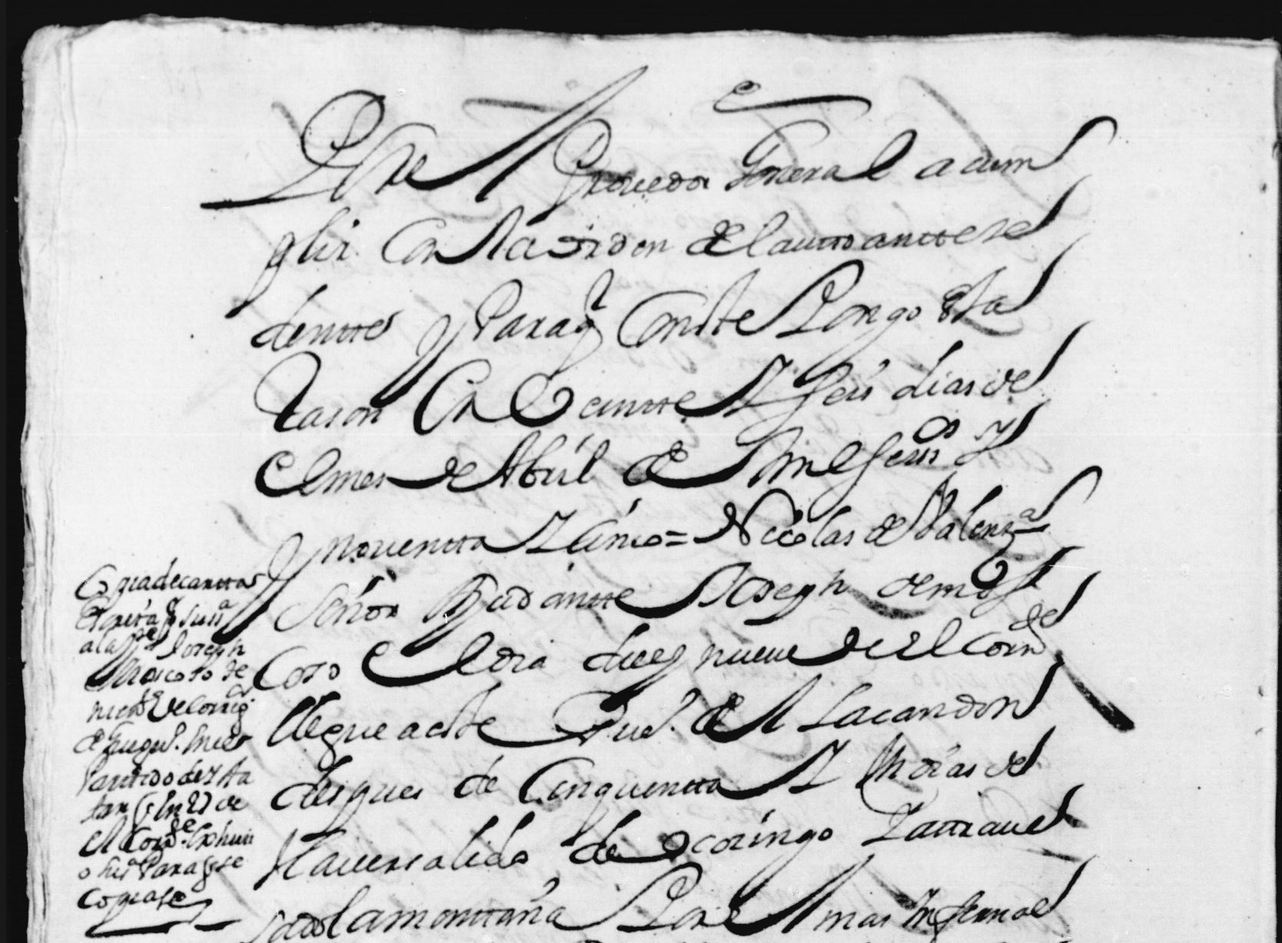lacandon: (797, 661, 1064, 732)
